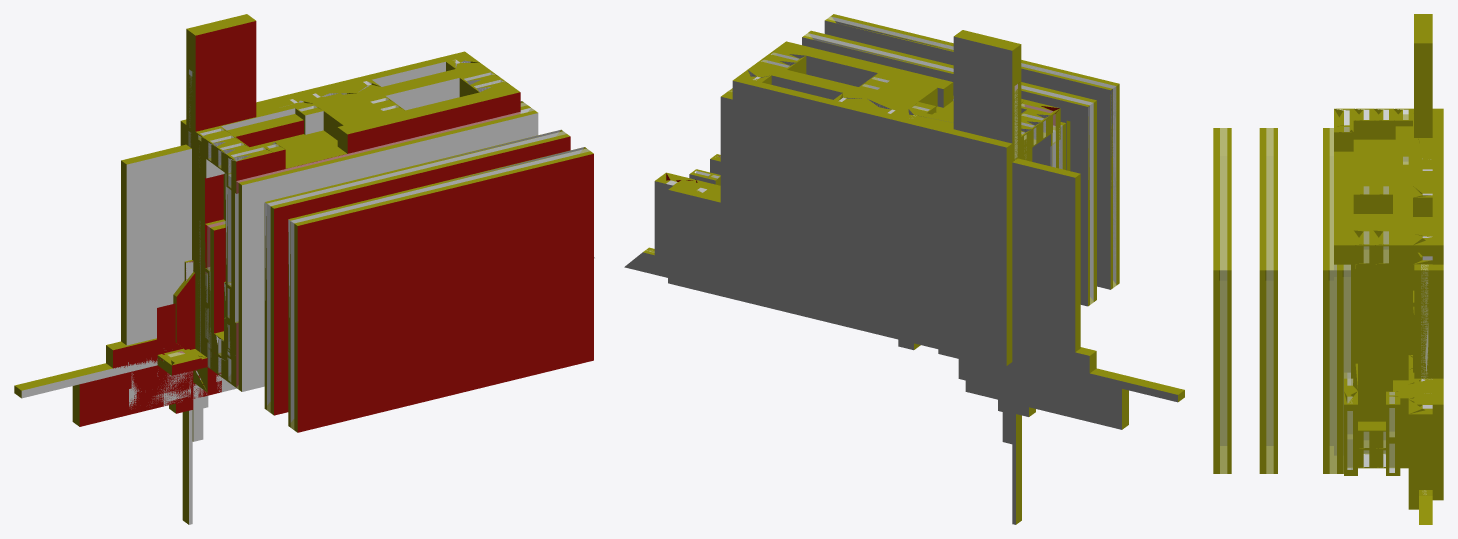
The model's file is ASHRAE9012016_SchoolSecondary_Denver.idf.obj.
The picture shows the model from 3 angles, left to right: view 1: azimuth 30°, elevation 25°; view 2: azimuth 150°, elevation 25°; view 3: azimuth 270°, elevation 25°; orthographic projection. The views are drawn at different scales.
Bounding box in the file's own units: 142 × 116 × 50.
